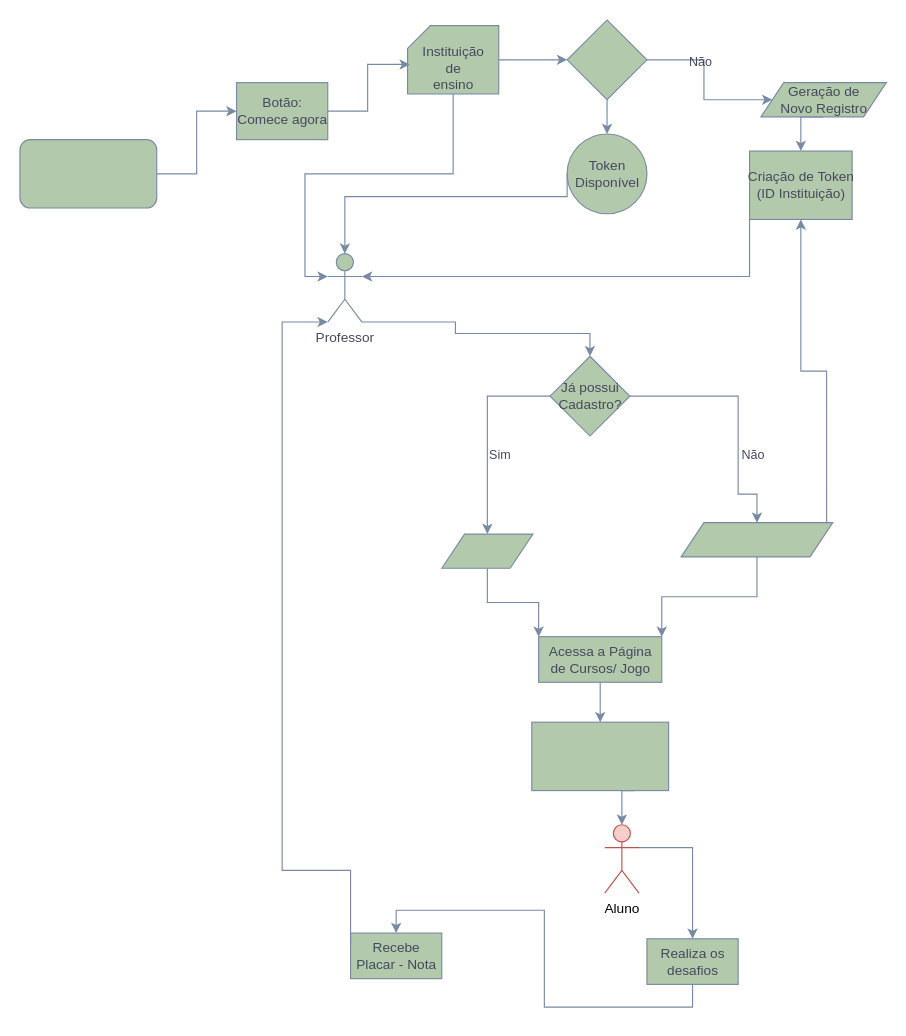
The diagram is 906 pixels wide and 1036 high, and some of its shapes have lost their labels. Each missing label, with the centre of its shape:
"Acesso Website" goes at pixel 88 173.
"Cria Senha de acesso para alunos" goes at pixel 600 756.
"Criação de Cadastro" goes at pixel 756 539.
"Já possui Registro?" goes at pixel 606 59.
"Login" goes at pixel 487 550.
